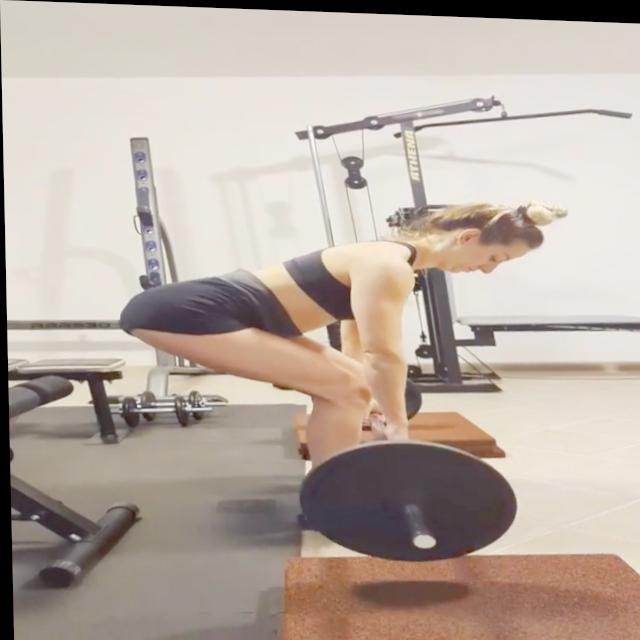barbell: (289, 431, 520, 566)
